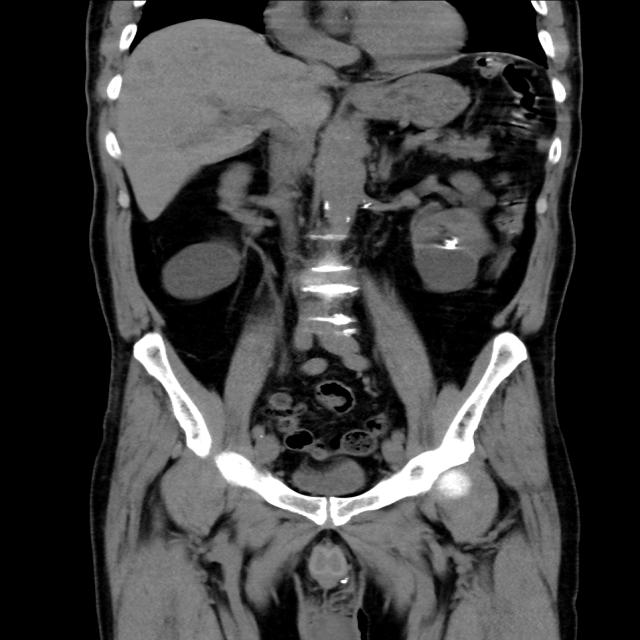kidneystone: (444, 236, 459, 250)
